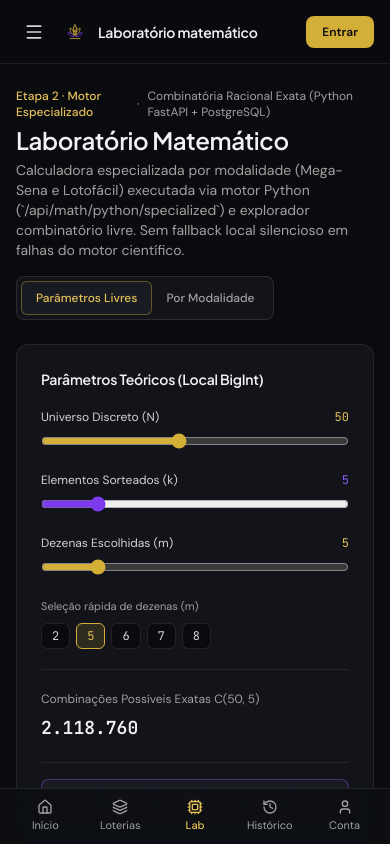
Test: Unitários UI — Responsividade e Laboratório Matemático › exibe erro explícito de indisponibilidade do motor Python sem fallback local silencioso
This screenshot has width=390, height=844.
Earlier steps of the test are not shown.
Check: the heading "Laboratório Matemático" is shown, box [16,125,289,155]
Click the tab "Por Modalidade".
click(210, 298)  # box [152,281,268,315]
(page scrolled)
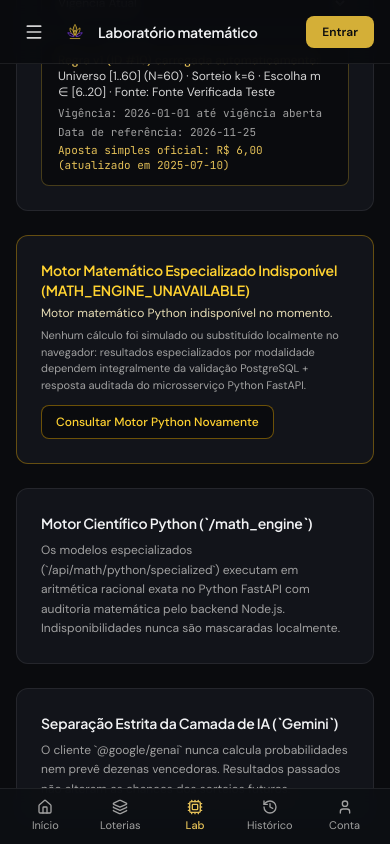
Check: the heading "Motor Matemático Especializado Indisponível (MATH_ENGINE_UNAVAILABLE)" is shown, box [41,260,349,300]
Check: the text "Nenhum cálculo foi simulado ou substituído localmente no navegador" is shown, box [41,328,339,392]
Check: the button "Consultar Motor Python Novamente" is shown, box [41,405,274,439]
